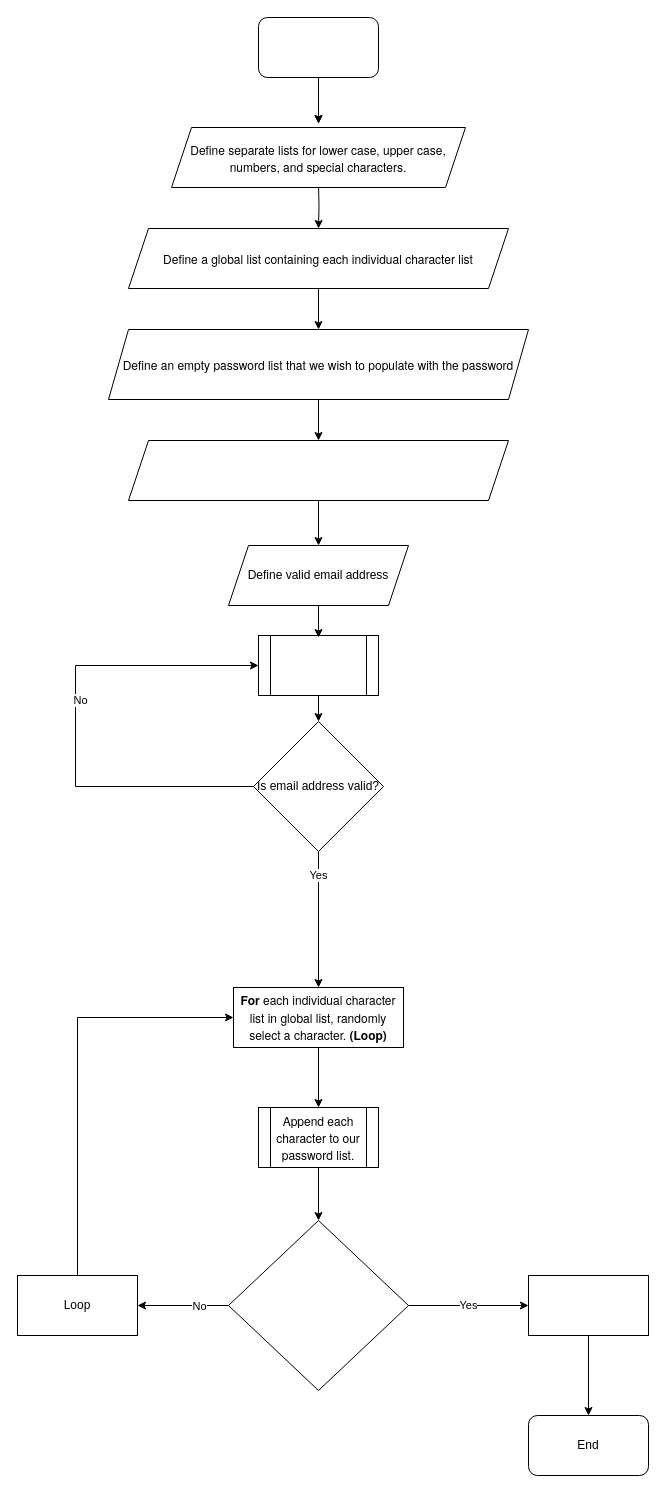
The diagram is 666 pixels wide and 1493 high, and some of its shapes have lost their labels. The shapes that lost their labels are listed below. From the top down, each one's box as (x1, y1, x2, y2) in pixels, then its label:
(258, 16, 378, 78): START
(128, 440, 508, 500): Define the length of password (n * the number of character lists)
(258, 634, 378, 696): Ask user in input email address
(228, 1220, 408, 1390): Has i reached range(n)?
(528, 1274, 648, 1336): Accept and Print
